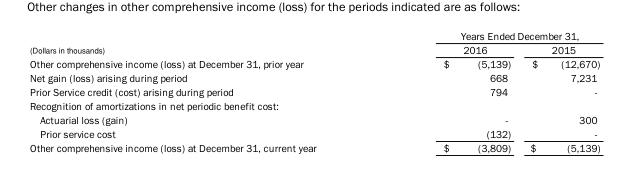table: (28, 29, 599, 152)
table column: (28, 29, 379, 152), (379, 29, 519, 152), (519, 29, 599, 152)
table column header: (28, 29, 599, 56)
table projected row header: (28, 97, 599, 111)
table row: (28, 41, 599, 56), (28, 69, 599, 83), (28, 83, 599, 97), (28, 97, 599, 111), (28, 111, 599, 125), (28, 125, 599, 139), (28, 56, 599, 69), (28, 139, 599, 152), (28, 29, 599, 41)
table spanning cell: (28, 29, 379, 56), (379, 29, 599, 41)
